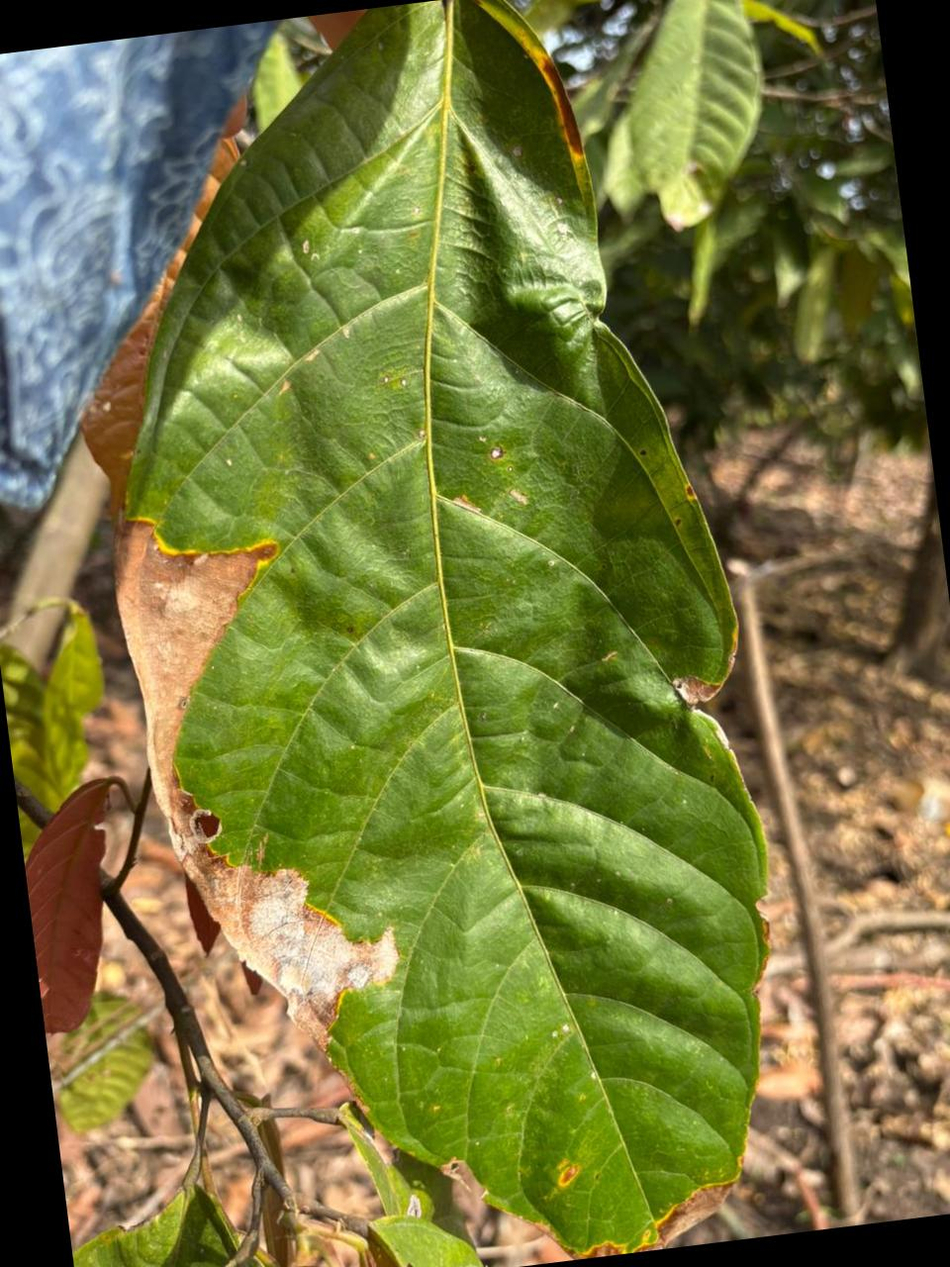Potasio: (116, 0, 767, 1258)
